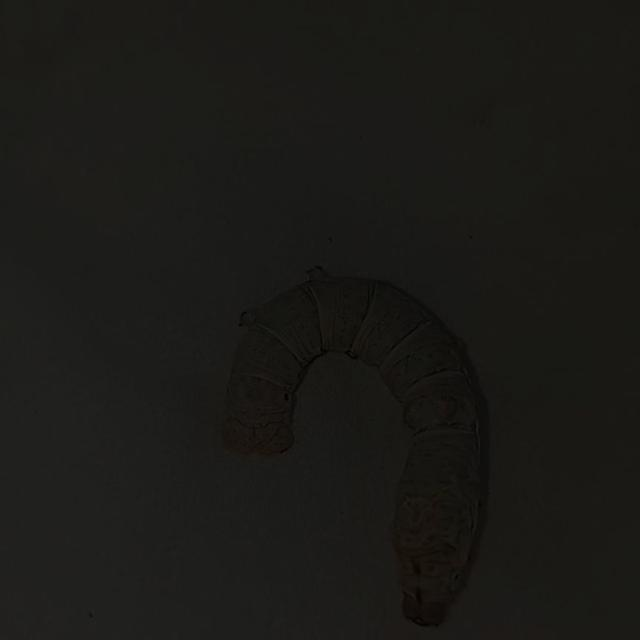Healthy: (196, 241, 526, 638)
